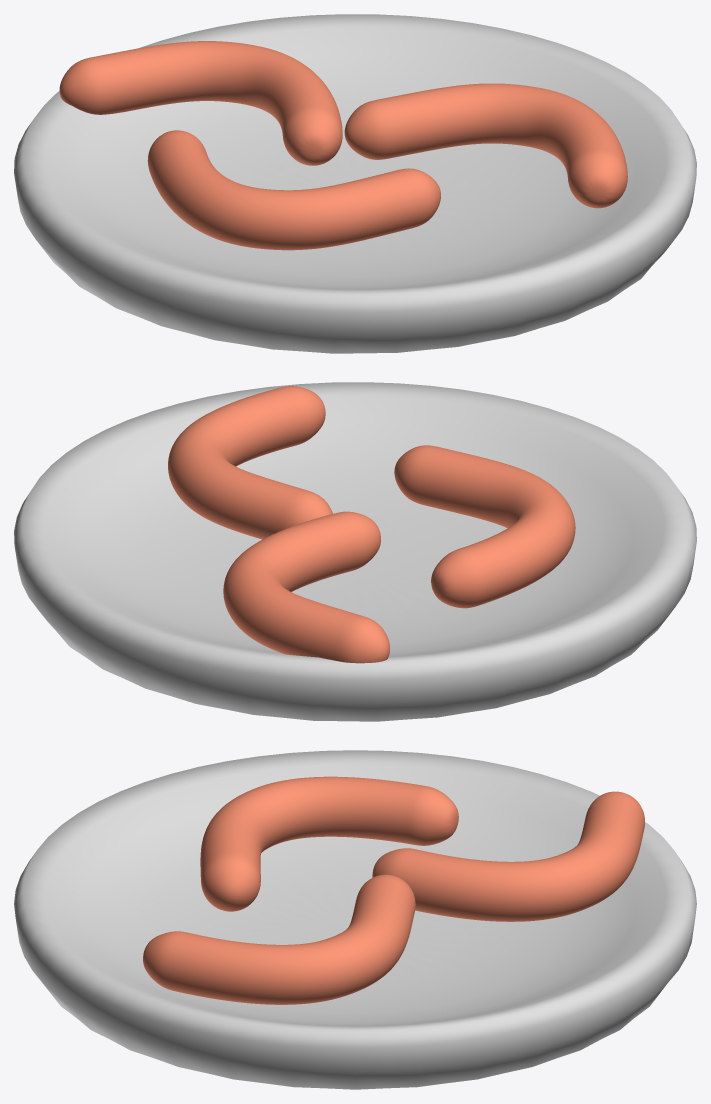
Rendered from sausage.fbx.
3 renders of one model, top to bottom at view 1: azimuth 30°, elevation 25°; view 2: azimuth 150°, elevation 25°; view 3: azimuth 270°, elevation 25°, orthographic.
Parts seen in each view (by area): view 1: Sphere, BezierCurve, BezierCurve.001, BezierCurve.003; view 2: Sphere, BezierCurve, BezierCurve.003, BezierCurve.001; view 3: Sphere, BezierCurve.001, BezierCurve, BezierCurve.003.
Boxes of the visible parts, x1,y1,x2,y2 form: Sphere: (14, 14, 696, 353); BezierCurve: (147, 130, 440, 250); BezierCurve.001: (344, 83, 627, 208); BezierCurve.003: (59, 41, 342, 165); Sphere: (14, 382, 696, 721); BezierCurve: (394, 445, 575, 608); BezierCurve.003: (223, 511, 389, 663); BezierCurve.001: (168, 386, 332, 539); Sphere: (14, 750, 696, 1089); BezierCurve.001: (143, 874, 415, 1004); BezierCurve: (200, 776, 458, 911); BezierCurve.003: (372, 791, 644, 921).
Size of the model in its own units: 182 by 37.15 by 182.
